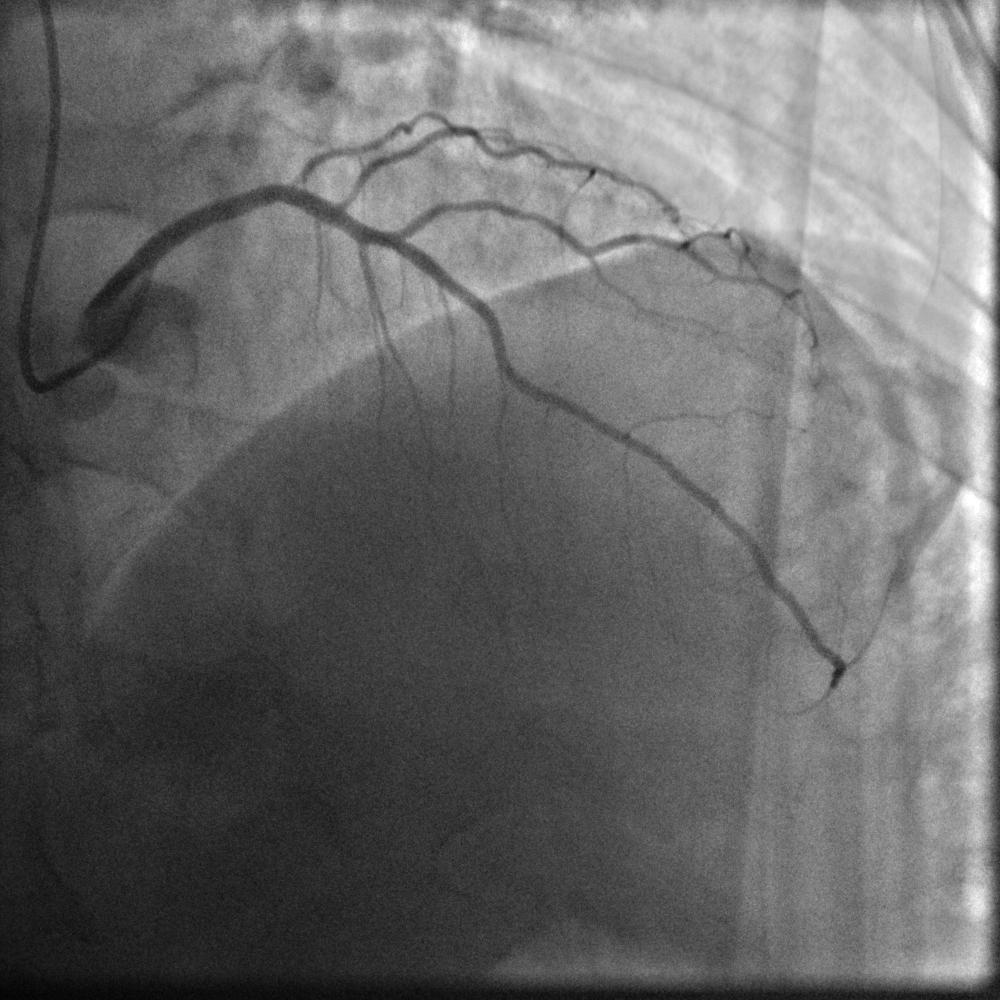Stenosis: (283, 156, 370, 216)
